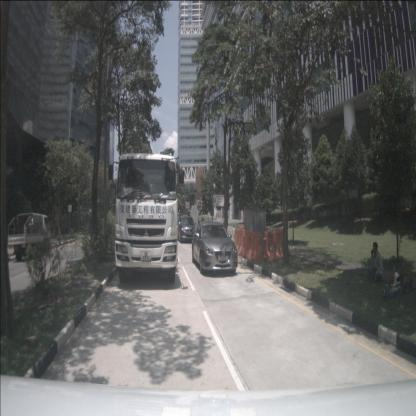barrier: (263, 229, 288, 264), (242, 230, 265, 263), (234, 228, 246, 256), (226, 225, 236, 252)
